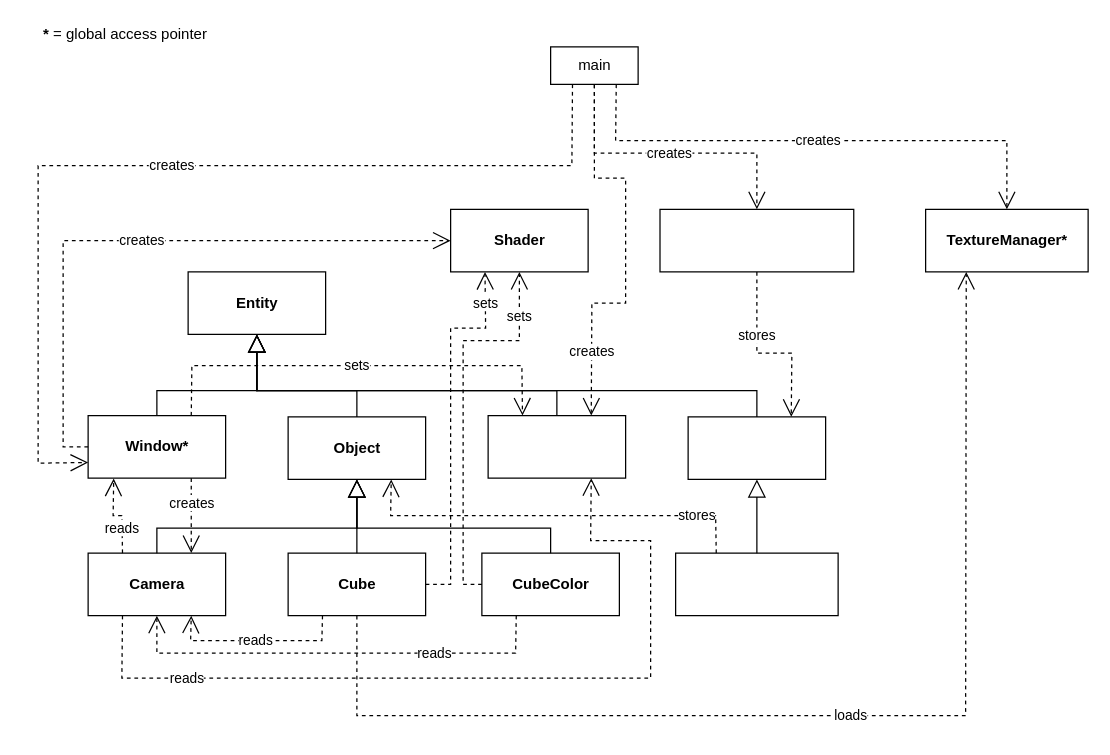
The diagram is 1110 pixels wide and 755 high, and some of its shapes have lost their labels. The shapes that lost their labels are listed below. From the top down, each one's centre as x and y in pixels, then its label:
At pixel 756 240: "GameStateManager*".
At pixel 556 446: "InputManager*".
At pixel 756 447: "GameState".
At pixel 756 584: "MainGame".
